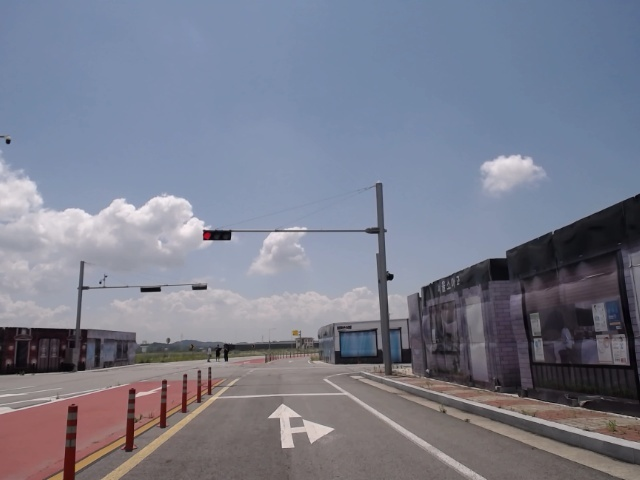red_3: (203, 229, 233, 242)
